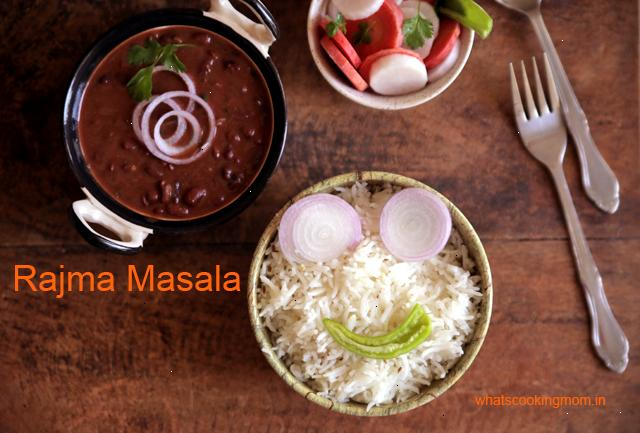rice: (277, 277, 467, 411)
